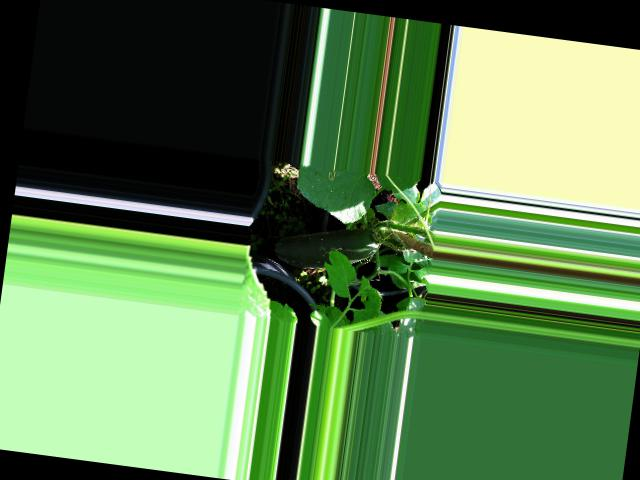cucumber: (272, 217, 382, 277)
